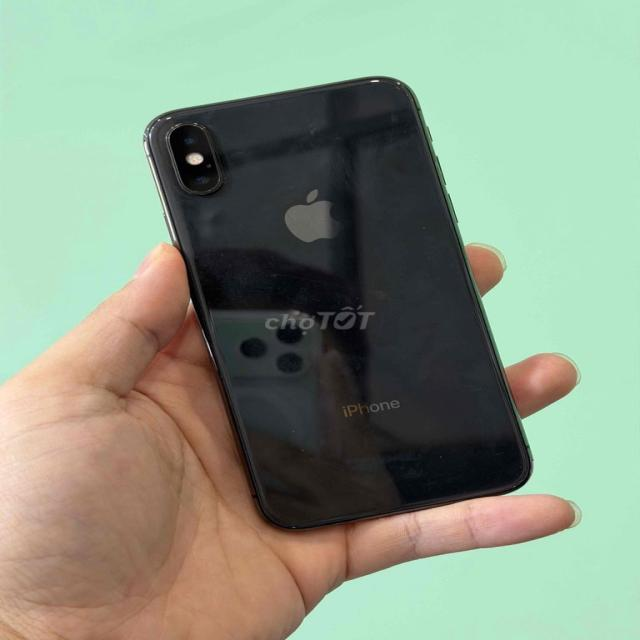scratch: (261, 416, 325, 470), (410, 434, 469, 471), (141, 106, 177, 128), (392, 82, 414, 98)
